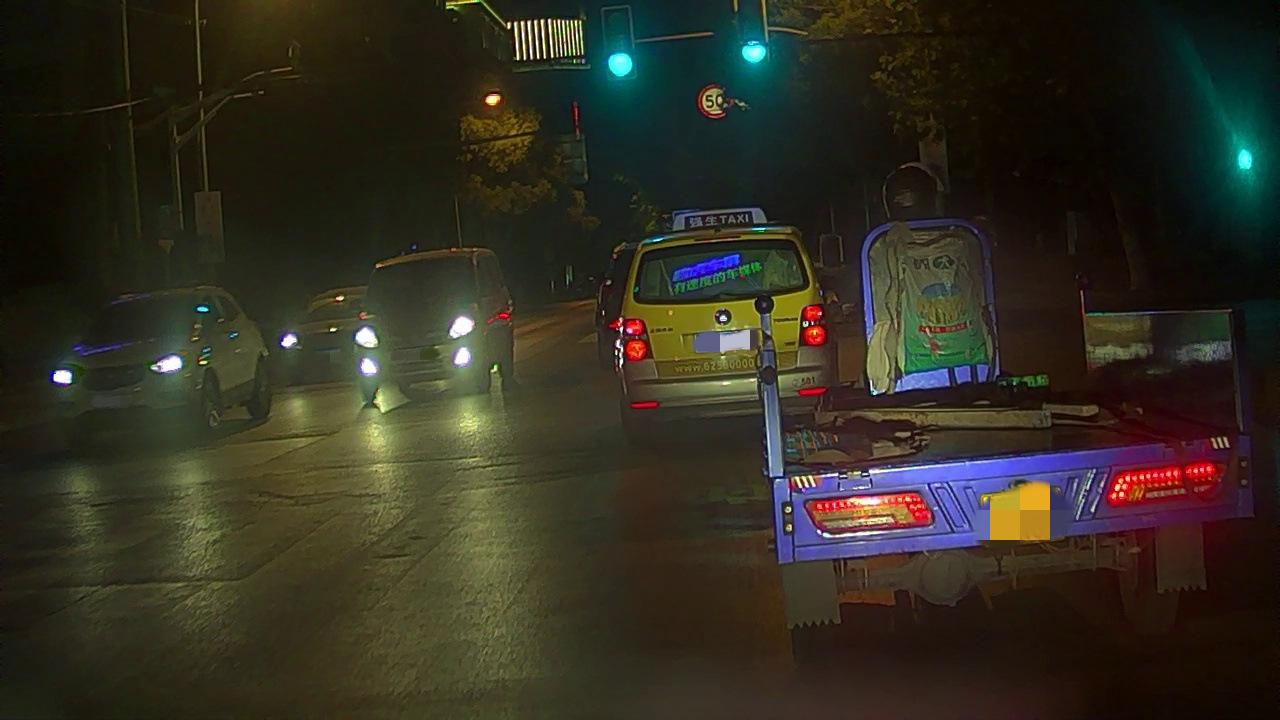traffic_light: (603, 5, 634, 78), (739, 1, 766, 70)
